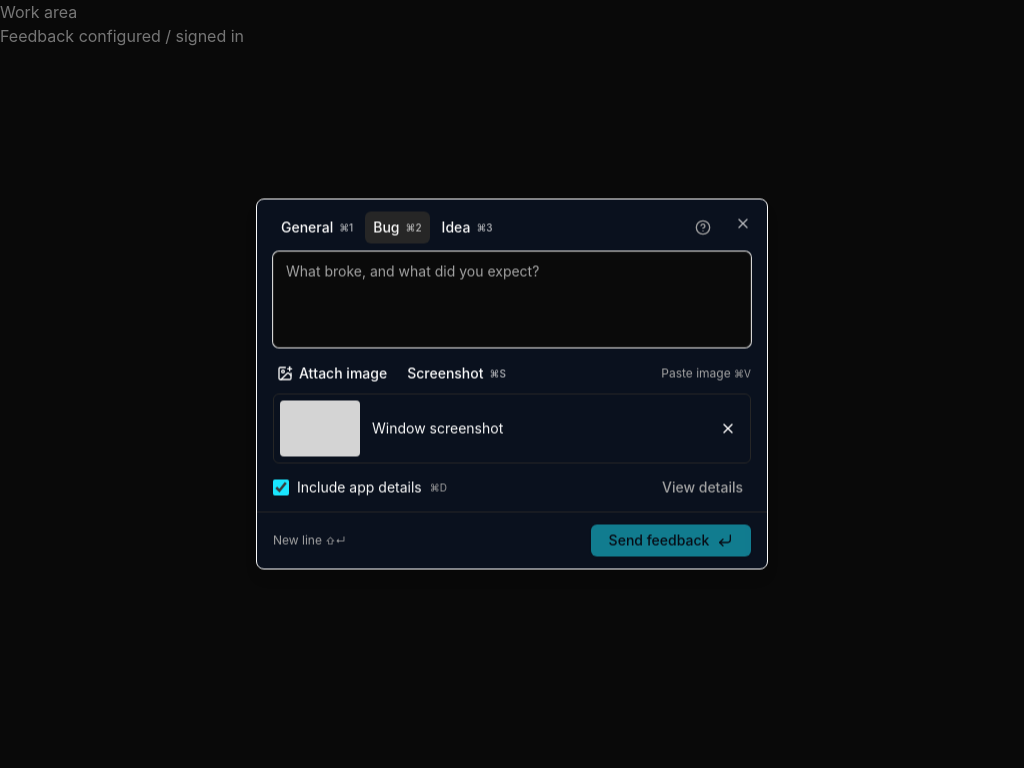
it: unified feedback composer continuity › names a partial attempt’s retry and finish by handle
This screenshot has width=1024, height=768.
Type "Name the partial way forward" into the text box named "Feedback".
click(512, 300); type("Name the partial way forward")  # box [273,252,751,348]
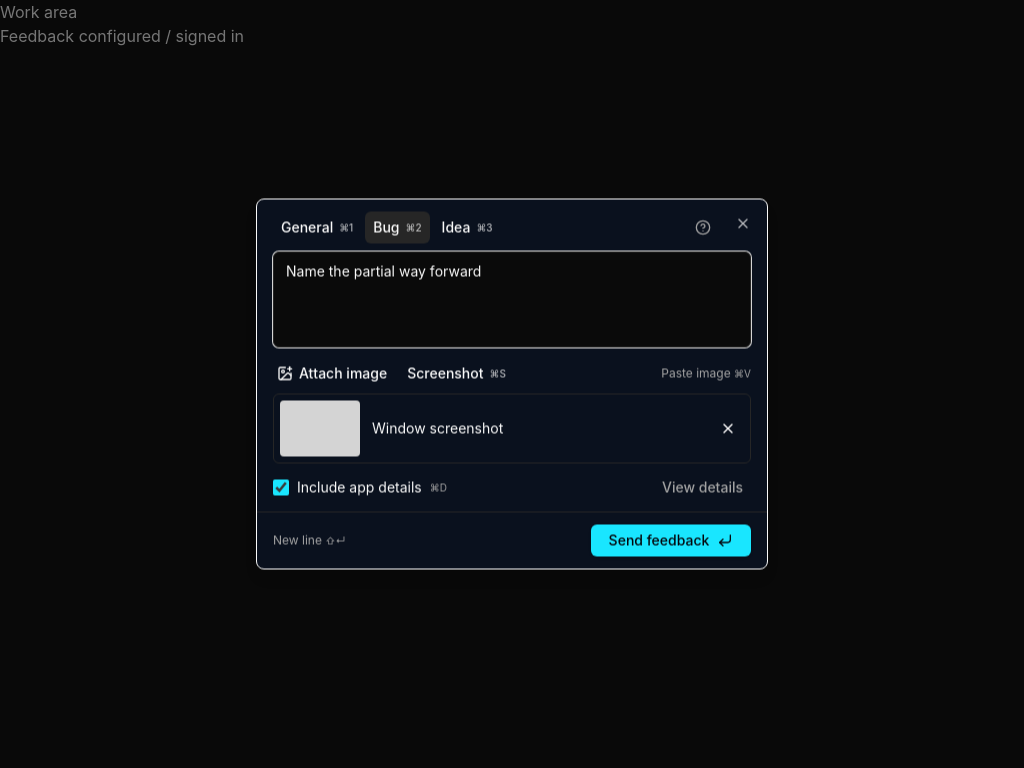
Press Enter in the text box named "Feedback", box [273,252,751,348]
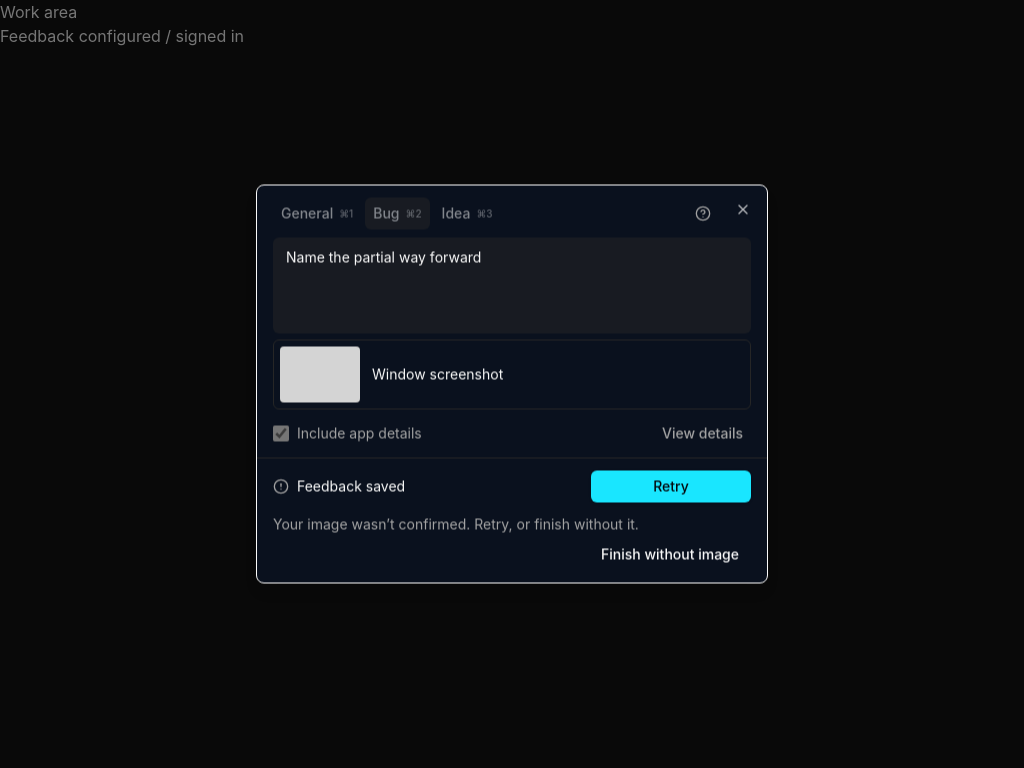
Check: the element that starts with "Feedback saved" is shown, box [257,458,767,582]
